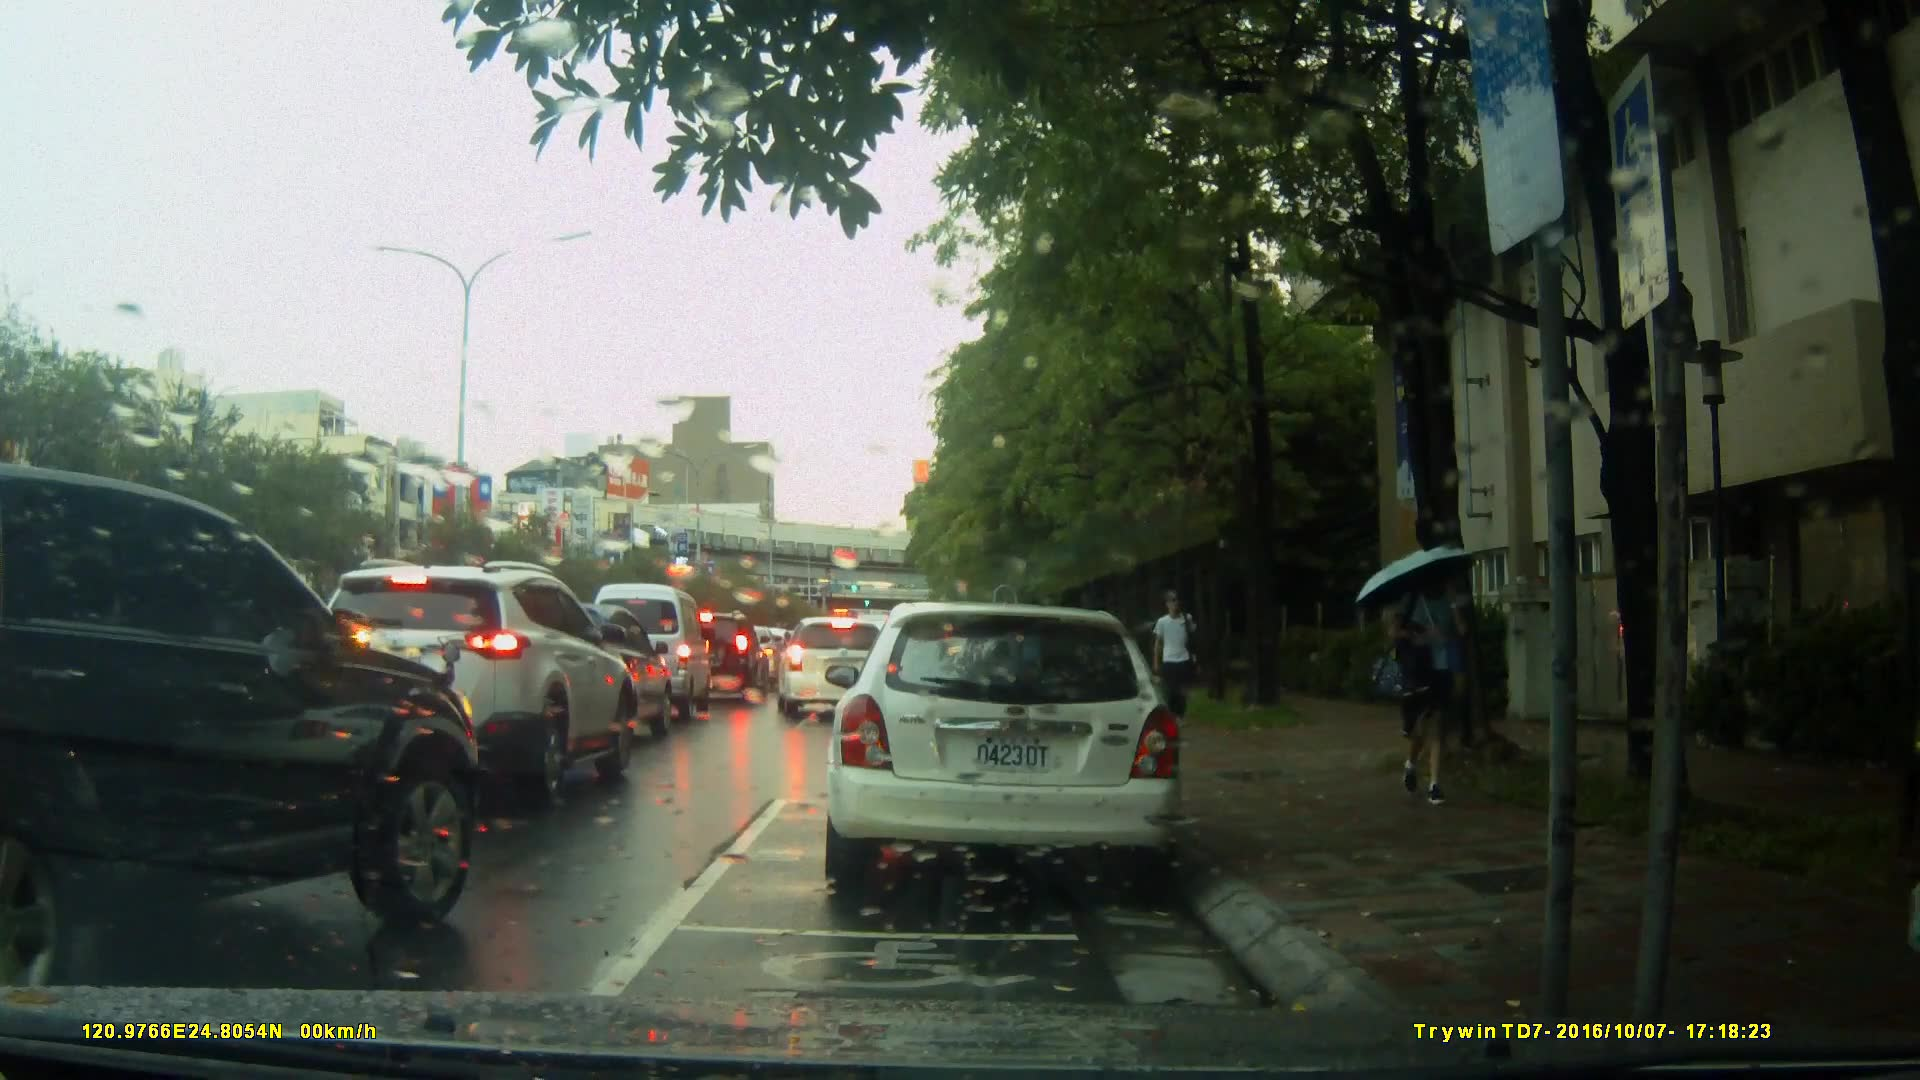pedestrian: (1372, 538, 1471, 817), (1901, 483, 1920, 962), (1149, 590, 1197, 729)
vehicle: (1, 461, 495, 987), (820, 602, 1188, 898), (297, 557, 641, 802), (479, 602, 677, 749), (578, 582, 711, 729), (774, 616, 909, 721), (676, 611, 767, 698)
